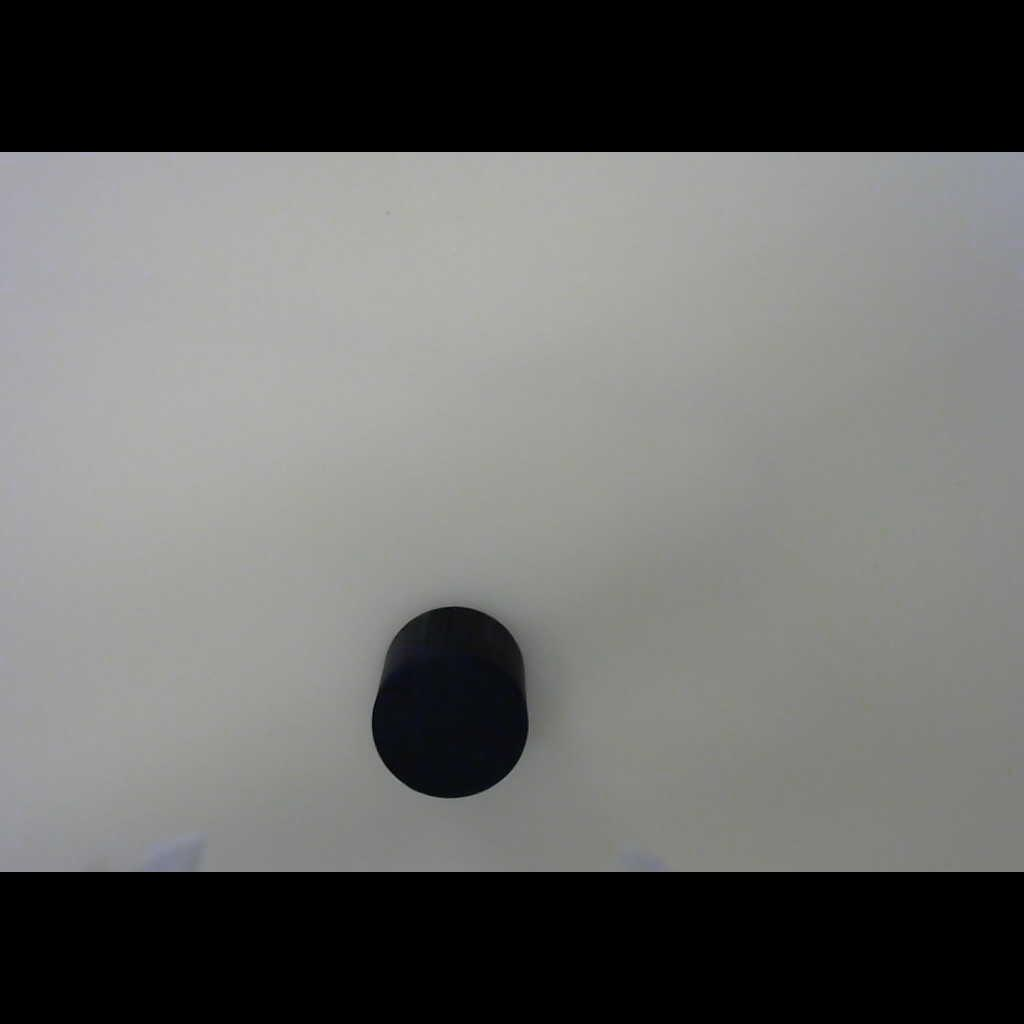circle: (364, 602, 531, 800)
